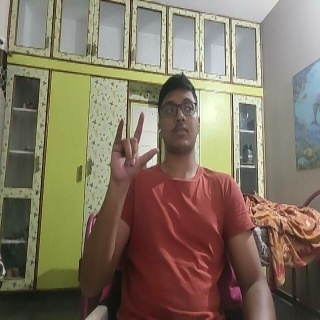Face: (155, 72, 202, 157)
I Love You: (107, 108, 161, 184)
